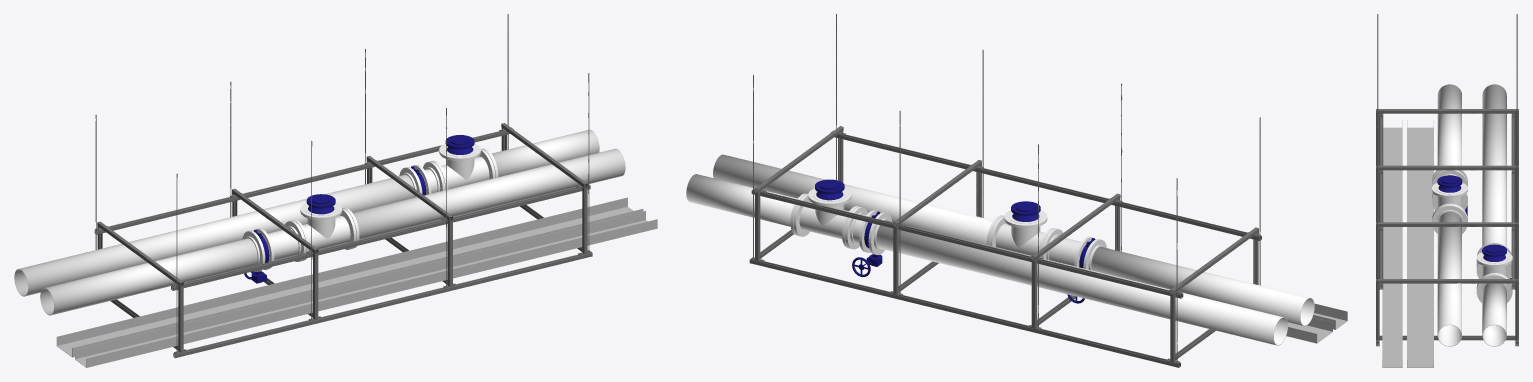
The model's file is Type_9.glb.
3 renders of one model, left to right at view 1: azimuth 30°, elevation 25°; view 2: azimuth 150°, elevation 25°; view 3: azimuth 270°, elevation 25°, orthographic. The views are drawn at different scales.
Visible parts, largest first — view 1: Untitled.2739, Untitled.2757, Untitled.2756, Cylinder.028, Cylinder.031, Cylinder.030, Cylinder.029, Untitled.2759, Untitled.2758, Untitled.2752; view 2: Untitled.2739, Cylinder.028, Cylinder.030, Cylinder.031, Cylinder.029, Untitled.2758, Untitled.2759, Untitled.2756, Untitled.2752, Untitled.2726, Untitled.2757; view 3: Untitled.2739, Untitled.2756, Untitled.2757, Cylinder.028, Cylinder.031, Cylinder.030, Cylinder.029, Untitled.2759, Untitled.2758, Untitled.2766, Untitled.2762, Untitled.1706 (+3 smaller).
Boxes of the visible parts, bbox=[...] form: Untitled.2739: bbox=[94, 14, 592, 358]; Untitled.2757: bbox=[75, 210, 657, 367]; Untitled.2756: bbox=[56, 197, 643, 357]; Cylinder.028: bbox=[14, 174, 414, 296]; Cylinder.031: bbox=[352, 148, 625, 239]; Cylinder.030: bbox=[40, 238, 257, 315]; Cylinder.029: bbox=[492, 129, 599, 176]; Untitled.2759: bbox=[292, 202, 356, 260]; Untitled.2758: bbox=[430, 143, 495, 189]; Untitled.2752: bbox=[267, 228, 298, 260]; Untitled.2739: bbox=[749, 14, 1261, 367]; Cylinder.028: bbox=[876, 220, 1287, 345]; Cylinder.030: bbox=[1091, 247, 1314, 326]; Cylinder.031: bbox=[713, 154, 993, 244]; Cylinder.029: bbox=[686, 174, 797, 226]; Untitled.2758: bbox=[793, 188, 859, 248]; Untitled.2759: bbox=[989, 210, 1055, 257]; Untitled.2756: bbox=[1286, 317, 1332, 343]; Untitled.2752: bbox=[1049, 237, 1080, 265]; Untitled.2726: bbox=[852, 211, 882, 276]; Untitled.2757: bbox=[1313, 303, 1347, 329]; Untitled.2739: bbox=[1376, 14, 1518, 346]; Untitled.2756: bbox=[1407, 120, 1433, 367]; Untitled.2757: bbox=[1382, 120, 1402, 367]; Cylinder.028: bbox=[1482, 84, 1506, 246]; Cylinder.031: bbox=[1437, 212, 1461, 346]; Cylinder.030: bbox=[1437, 84, 1461, 165]; Cylinder.029: bbox=[1482, 283, 1506, 346]; Untitled.2759: bbox=[1432, 182, 1467, 218]; Untitled.2758: bbox=[1476, 252, 1512, 287]; Untitled.2766: bbox=[1432, 205, 1467, 233]; Untitled.2762: bbox=[1476, 274, 1512, 302]; Untitled.1706: bbox=[1437, 175, 1462, 187].
Bounding box in the file's own units: 6.36 × 1.95 × 1.6.
